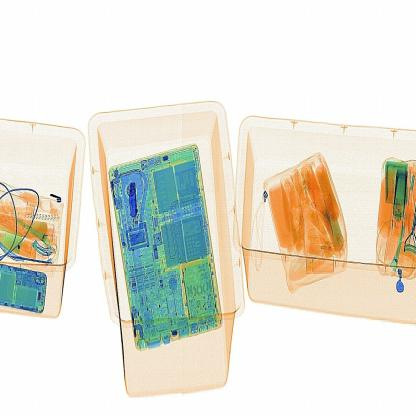knife: (121, 168, 148, 230)
